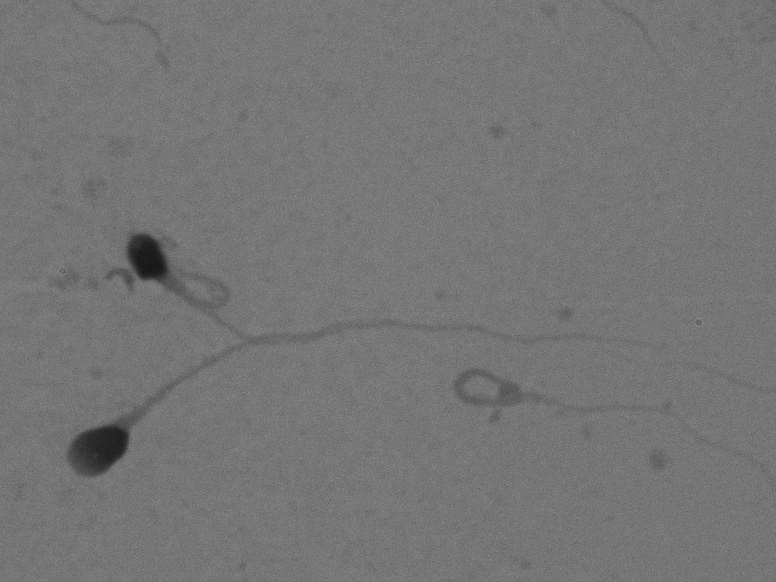Abnormal: (28, 304, 747, 508), (81, 197, 640, 352)
